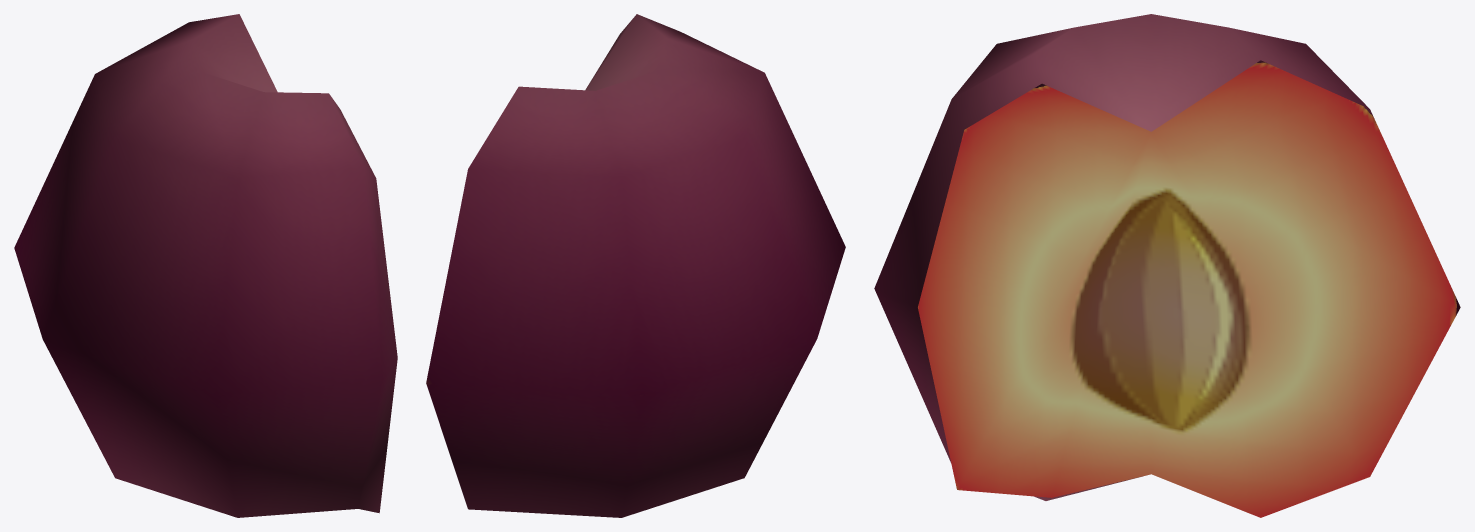
File: PlumS.FBX
3 renders of one model, left to right at view 1: azimuth 30°, elevation 25°; view 2: azimuth 150°, elevation 25°; view 3: azimuth 270°, elevation 25°, orthographic. The views are drawn at different scales.
Parts seen in each view (by area): view 1: Plum Slice; view 2: Plum Slice; view 3: Plum Slice.
Boxes of the visible parts, x1,y1,x2,y2 form: Plum Slice: (14,14,397,517); Plum Slice: (426,14,845,517); Plum Slice: (874,14,1460,517).
Size of the model in its own units: 2.64 by 4.31 by 5.
